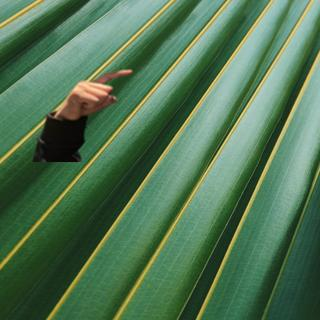WHY: (54, 66, 137, 121)
